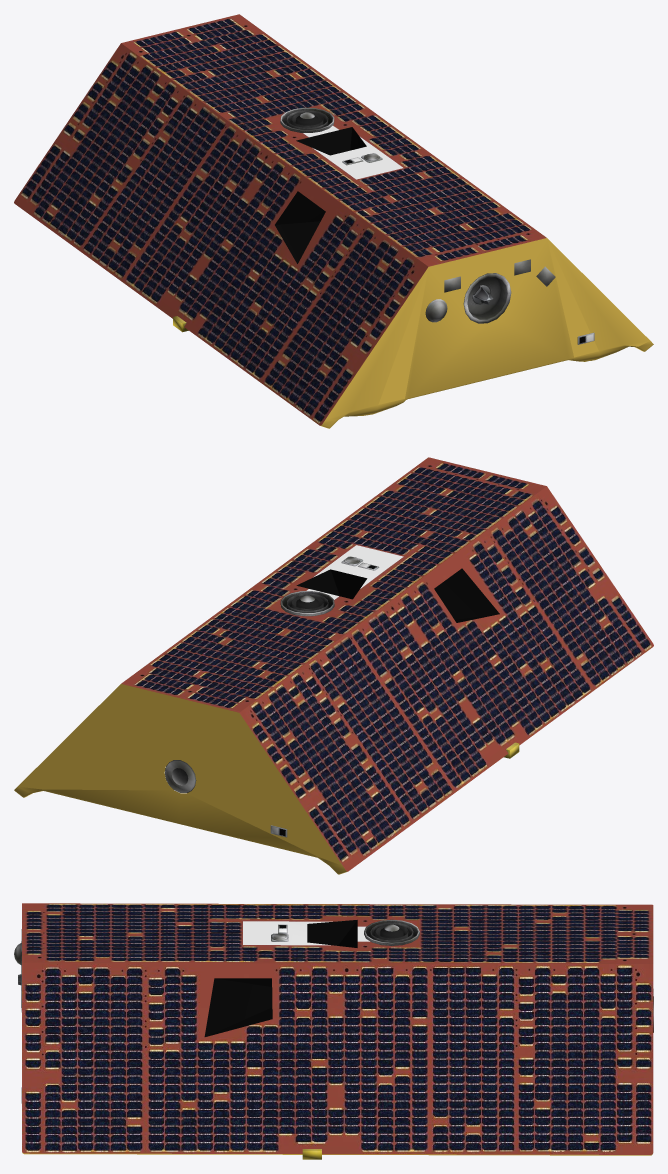
The model's file is gracefo.glb.
The picture shows the model from 3 angles, top to bottom: view 1: azimuth 30°, elevation 25°; view 2: azimuth 150°, elevation 25°; view 3: azimuth 270°, elevation 25°; orthographic projection. The views are drawn at different scales.
Visible parts, largest first — view 1: bus_1, inst_1; view 2: bus_1, inst_1; view 3: bus_1, inst_1.
Boxes of the visible parts, left/top/right/bottom form: bus_1: left=14, top=14, right=653, bottom=428; inst_1: left=173, top=107, right=594, bottom=361; bus_1: left=14, top=457, right=653, bottom=874; inst_1: left=165, top=556, right=519, bottom=837; bus_1: left=22, top=903, right=653, bottom=1155; inst_1: left=14, top=919, right=653, bottom=1159.
Bounding box in the file's own units: 2.03 × 0.8542 × 3.25.
Materials: 4 (1 with a texture image).
